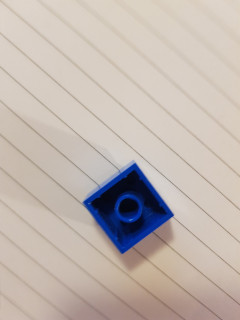2x2 blue: (80, 157, 177, 258)
